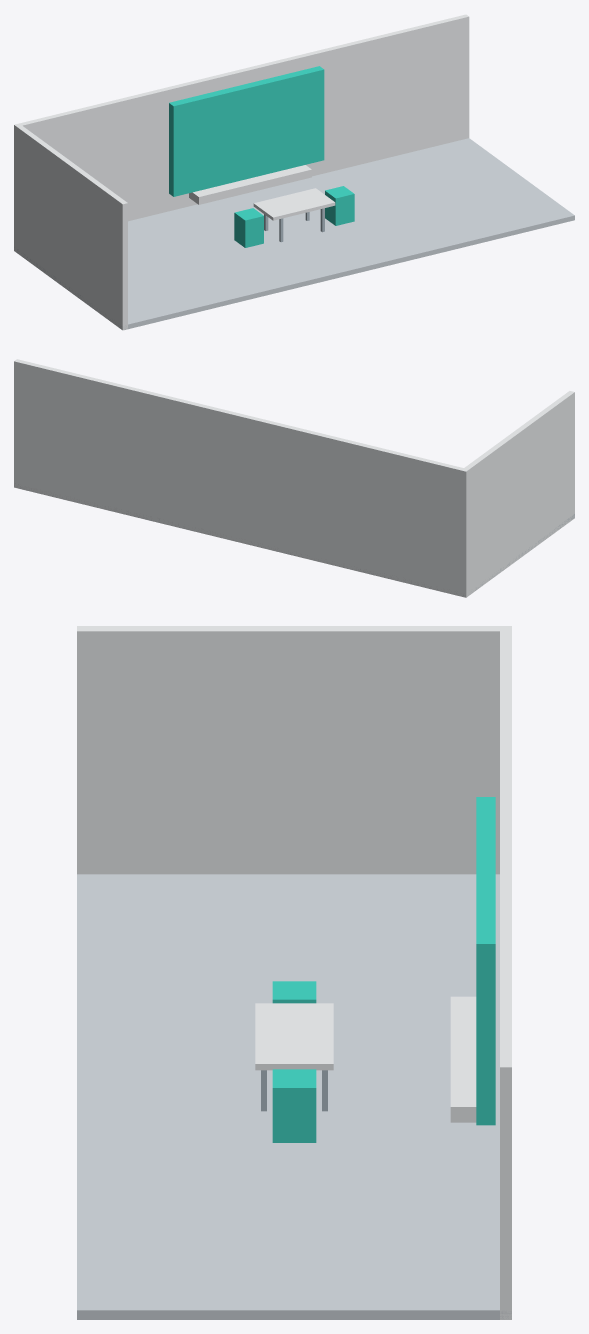
The picture shows the model from 3 angles, top to bottom: view 1: azimuth 30°, elevation 25°; view 2: azimuth 150°, elevation 25°; view 3: azimuth 270°, elevation 25°; orthographic projection. The views are drawn at different scales.
Visible parts, largest first — view 1: Exhibition Booth Concept; view 2: Exhibition Booth Concept; view 3: Exhibition Booth Concept.
Boxes of the visible parts, x1,y1,x2,y2 form: Exhibition Booth Concept: (14,14,574,330); Exhibition Booth Concept: (14,359,574,597); Exhibition Booth Concept: (77,626,511,1319).
Size of the model in its own units: 12 by 3.2 by 5.
